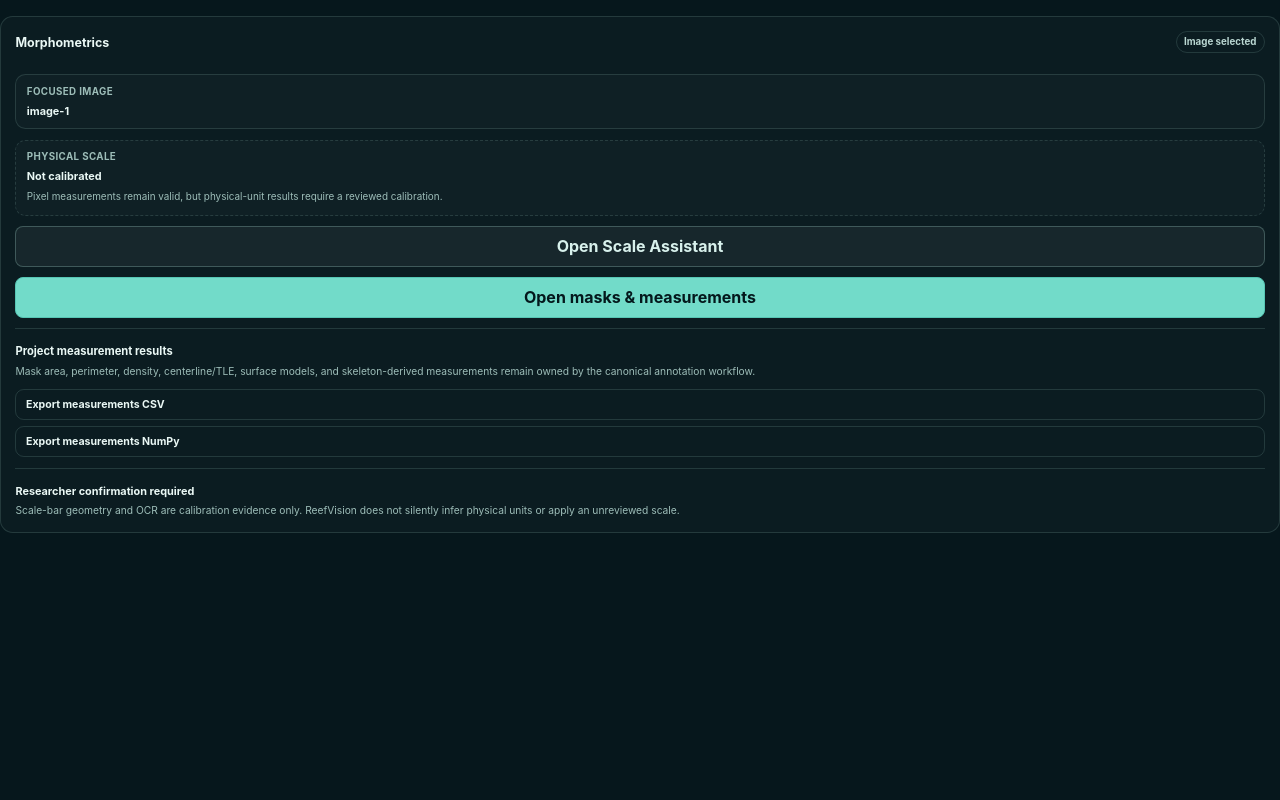
Scenario: ProjectMorphometricsInspector › opens the existing Scale Assistant instead of duplicating calibration logic
expect the text "Not calibrated" is shown: met, box x1=27 y1=169 x2=102 y2=183
Click the button "Open Scale Assistant" at [640, 246], box x1=15 y1=226 x2=1265 y2=267
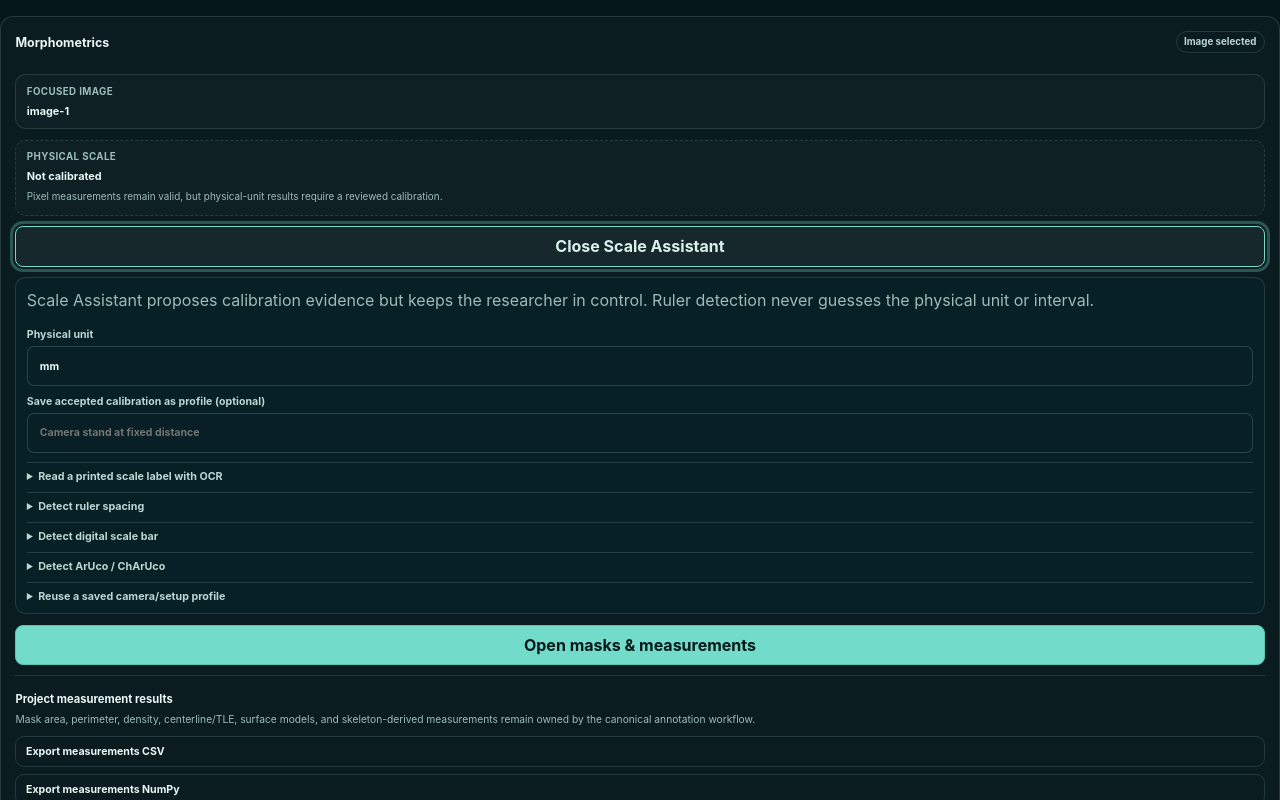
expect the element with test id "calibration-assistant" is shown: met, box x1=27 y1=288 x2=1253 y2=603
expect the heading "Detect digital scale bar" is shown: met, box x1=38 y1=530 x2=158 y2=543
expect the heading "Read a printed scale label with OCR" is shown: met, box x1=38 y1=470 x2=223 y2=483
